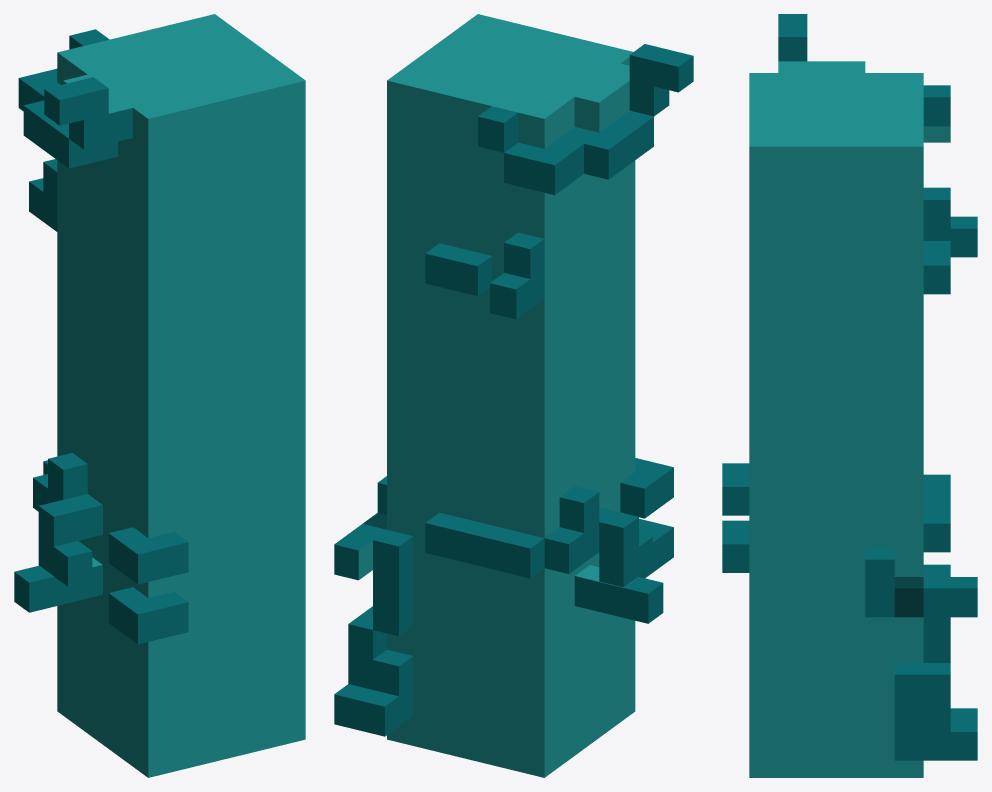
File: Nivel3Fbx.fbx
3 views of the same model, side by side, from view 1: azimuth 30°, elevation 25°; view 2: azimuth 150°, elevation 25°; view 3: azimuth 270°, elevation 25° (orthographic). The views are drawn at different scales.
Parts seen in each view (by area): view 1: pCube4; view 2: pCube4; view 3: pCube4.
Part boxes in pixels (x1=…): pCube4: x1=14, y1=14, x2=305, y2=777; pCube4: x1=334, y1=14, x2=693, y2=777; pCube4: x1=722, y1=14, x2=977, y2=777.
Size of what is drawn, in the model's own units: 5.84 by 14.95 by 5.28.
